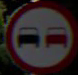No overtake: (8, 3, 72, 65)
